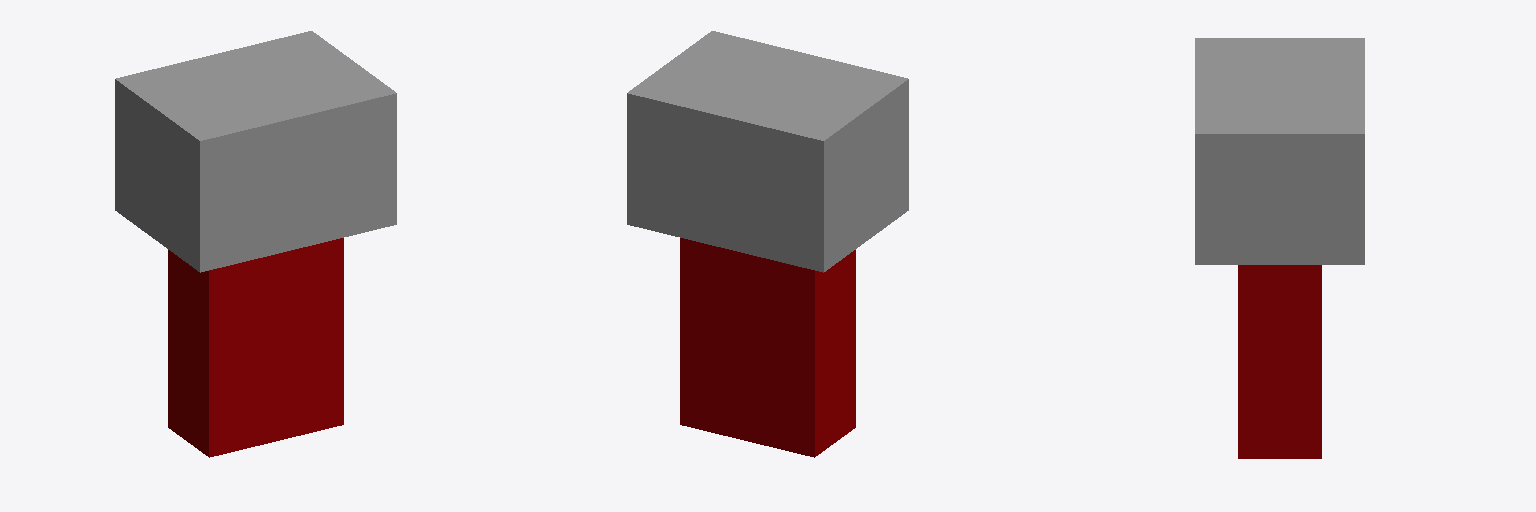
File: julia-body-head.obj
The picture shows the model from 3 angles: view 1: azimuth 30°, elevation 25°; view 2: azimuth 150°, elevation 25°; view 3: azimuth 270°, elevation 25°; orthographic projection.
Parts seen in each view (by area): view 1: Cube.003_Cube.004, Cube_Cube.001; view 2: Cube.003_Cube.004, Cube_Cube.001; view 3: Cube.003_Cube.004, Cube_Cube.001.
Boxes of the visible parts, <box> form: Cube.003_Cube.004: <box>115,31,396,272</box>; Cube_Cube.001: <box>168,238,343,457</box>; Cube.003_Cube.004: <box>627,31,908,272</box>; Cube_Cube.001: <box>680,238,855,457</box>; Cube.003_Cube.004: <box>1195,38,1364,264</box>; Cube_Cube.001: <box>1238,265,1321,458</box>.
Size of the model in its own units: 4.38 by 7.22 by 3.29.